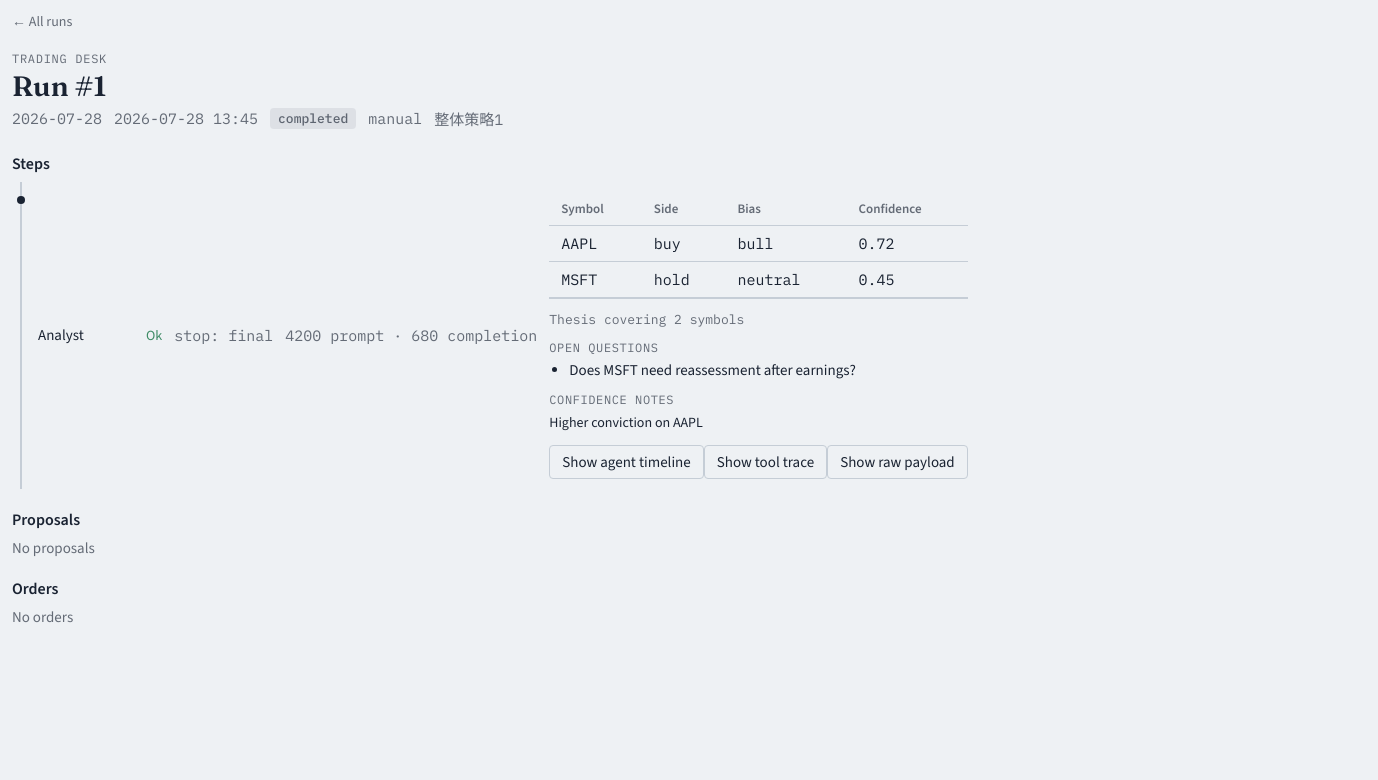
Scenario: RunDetailPage › shows agent timeline and handoff for envelopes with events
The image size is (1378, 780).
Check: the element named "handoff summary" is shown, box x1=549 y1=298 x2=968 y2=445
Check: the text "Thesis covering 2 symbols" is shown, box x1=549 y1=311 x2=744 y2=328
Click the button "Show agent timeline": (627, 462) x1=549 y1=445 x2=704 y2=479
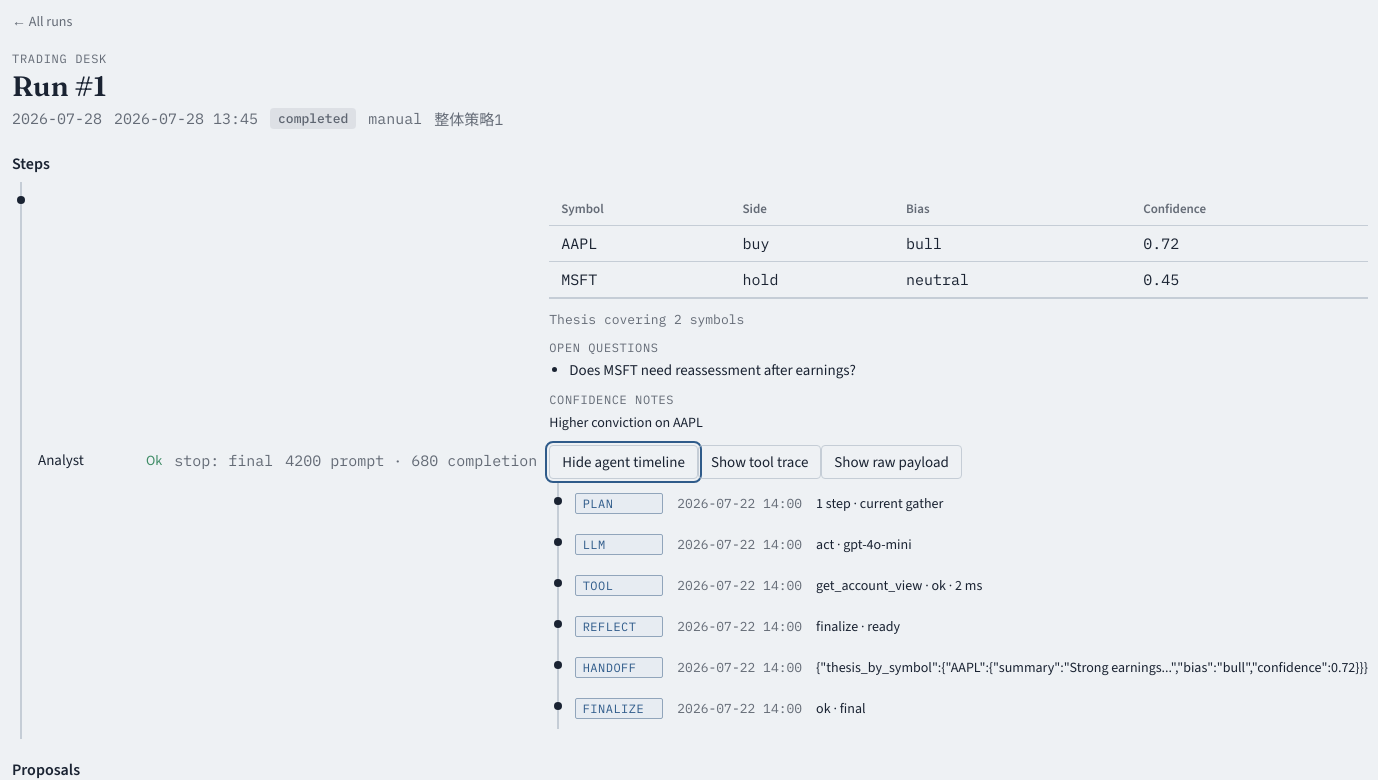
Check: the text "plan" is shown, box x1=575 y1=493 x2=663 y2=514
Check: the text "reflect" is shown, box x1=575 y1=616 x2=663 y2=637
Check: the text "finalize" is shown, box x1=575 y1=698 x2=663 y2=719
